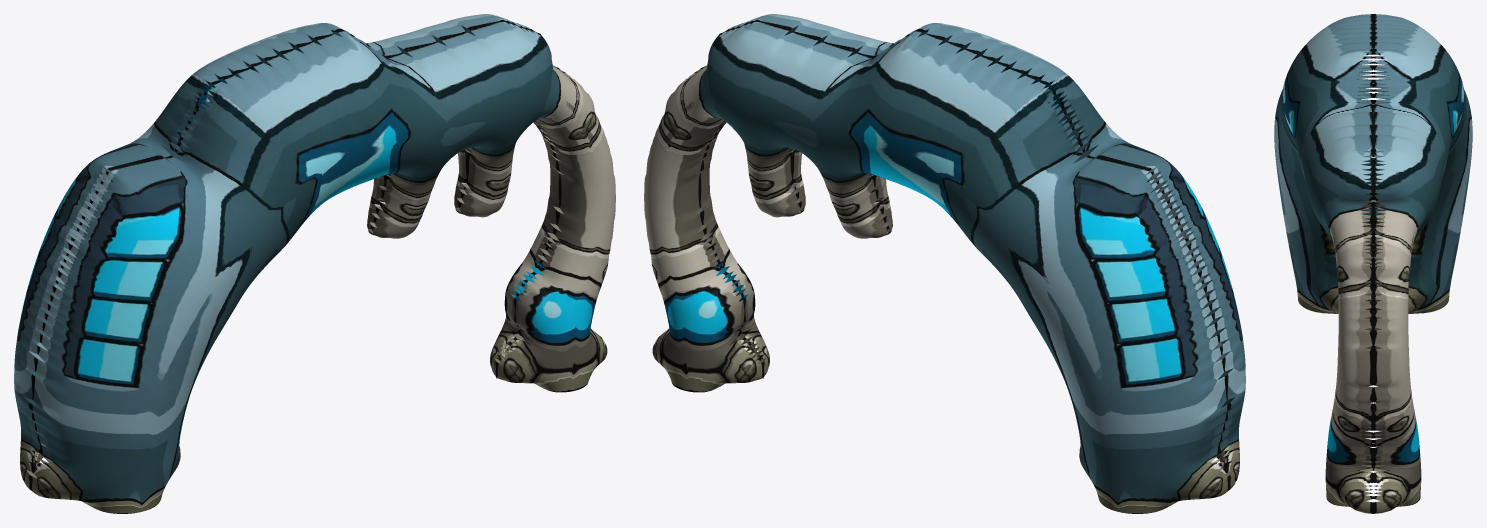
Rendered from rear_arch.glb.
The picture shows the model from 3 angles, left to right: view 1: azimuth 30°, elevation 25°; view 2: azimuth 150°, elevation 25°; view 3: azimuth 270°, elevation 25°; orthographic projection. The views are drawn at different scales.
Visible parts, largest first — view 1: rear_arch; view 2: rear_arch; view 3: rear_arch.
Boxes of the visible parts, x1,y1,x2,y2 form: rear_arch: [14, 14, 615, 513]; rear_arch: [644, 14, 1245, 513]; rear_arch: [1274, 14, 1472, 513].
Bounding box in the file's own units: 0.9889 × 0.6442 × 0.3264.
Materials: 1 (1 with a texture image).
